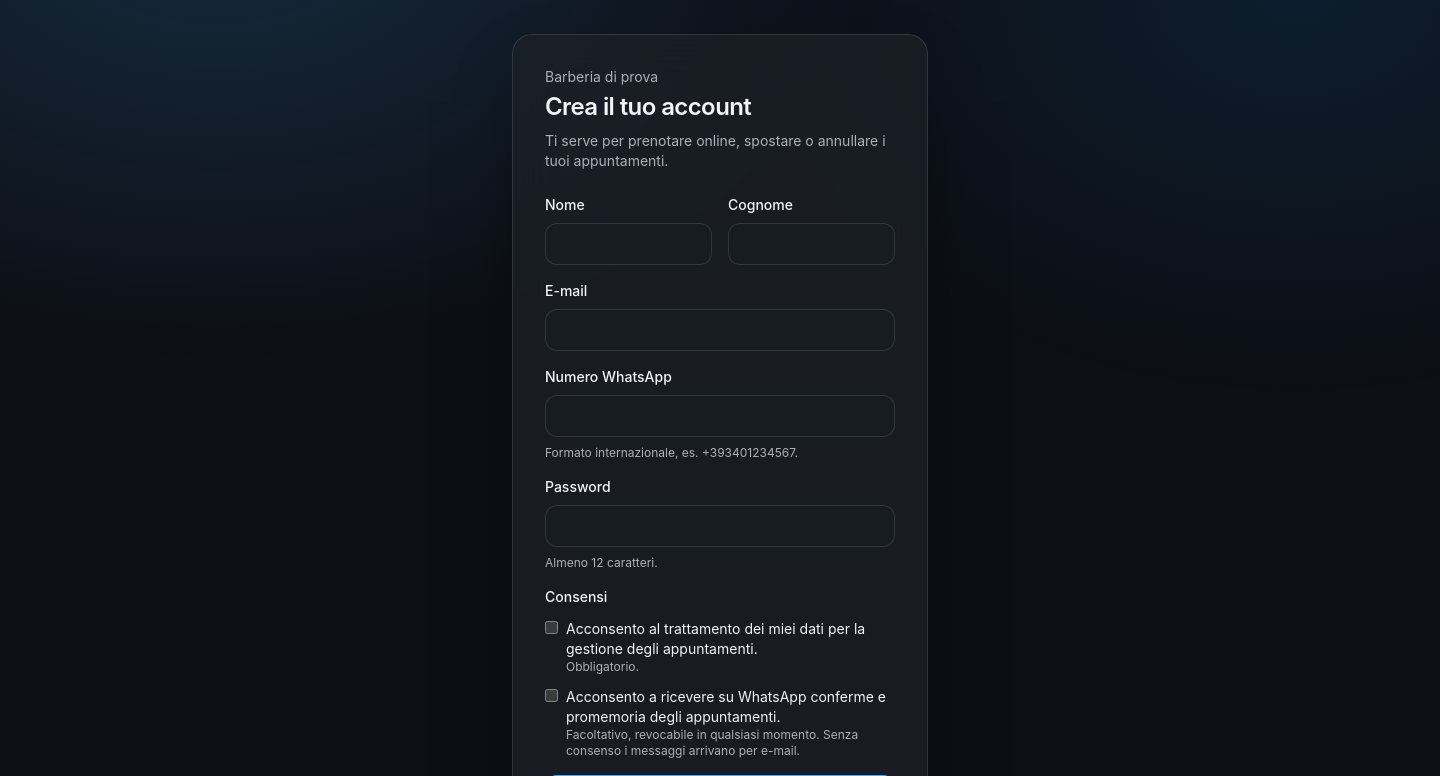
Scenario: PaginaRegistrazione › senza consenso al trattamento non chiama l API
The width and height of the screenshot is (1440, 776).
Step 1. Type "Marta" into the field labelled "Nome" → x=628, y=244, box [545, 223, 712, 265]
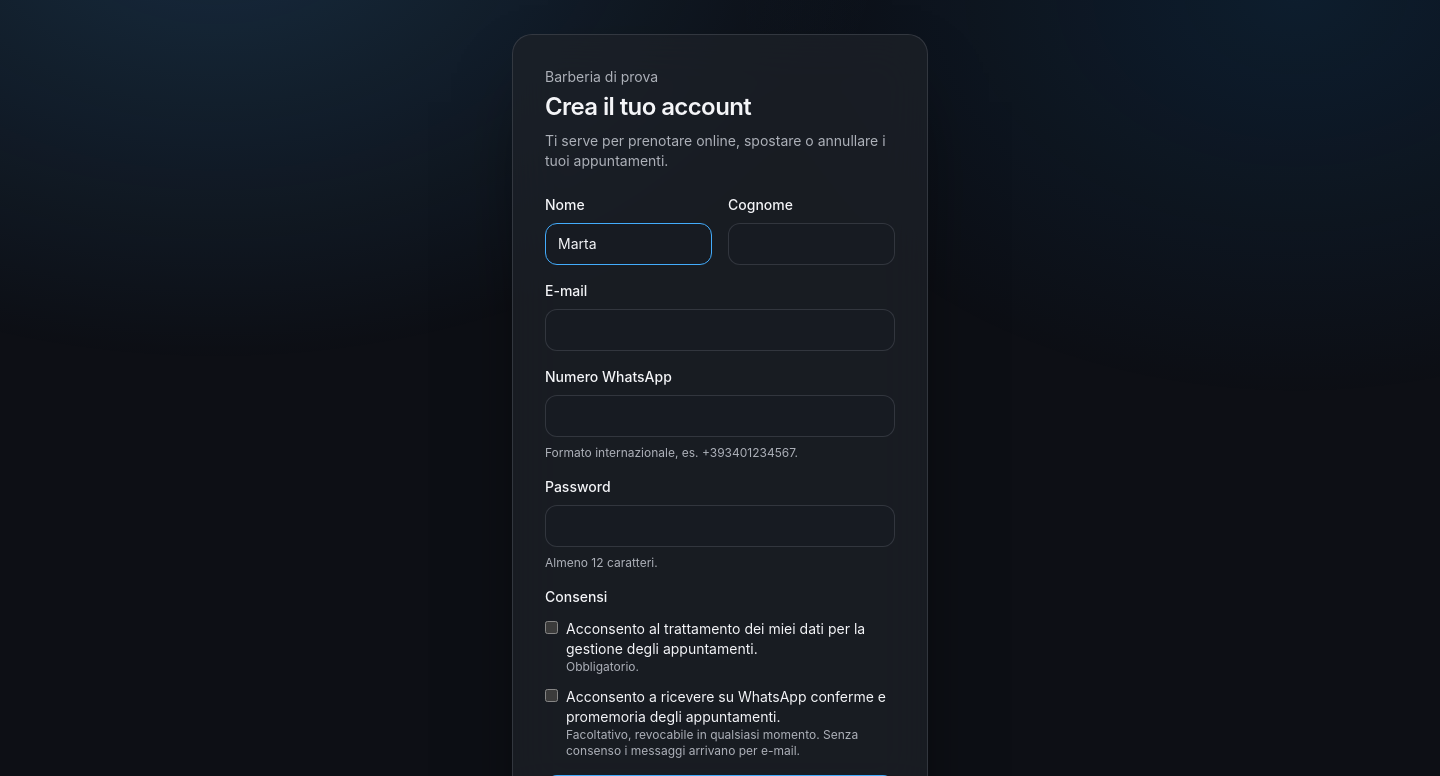
Step 2. Type "Esposito" into the field labelled "Cognome" → x=812, y=244, box [728, 223, 895, 265]
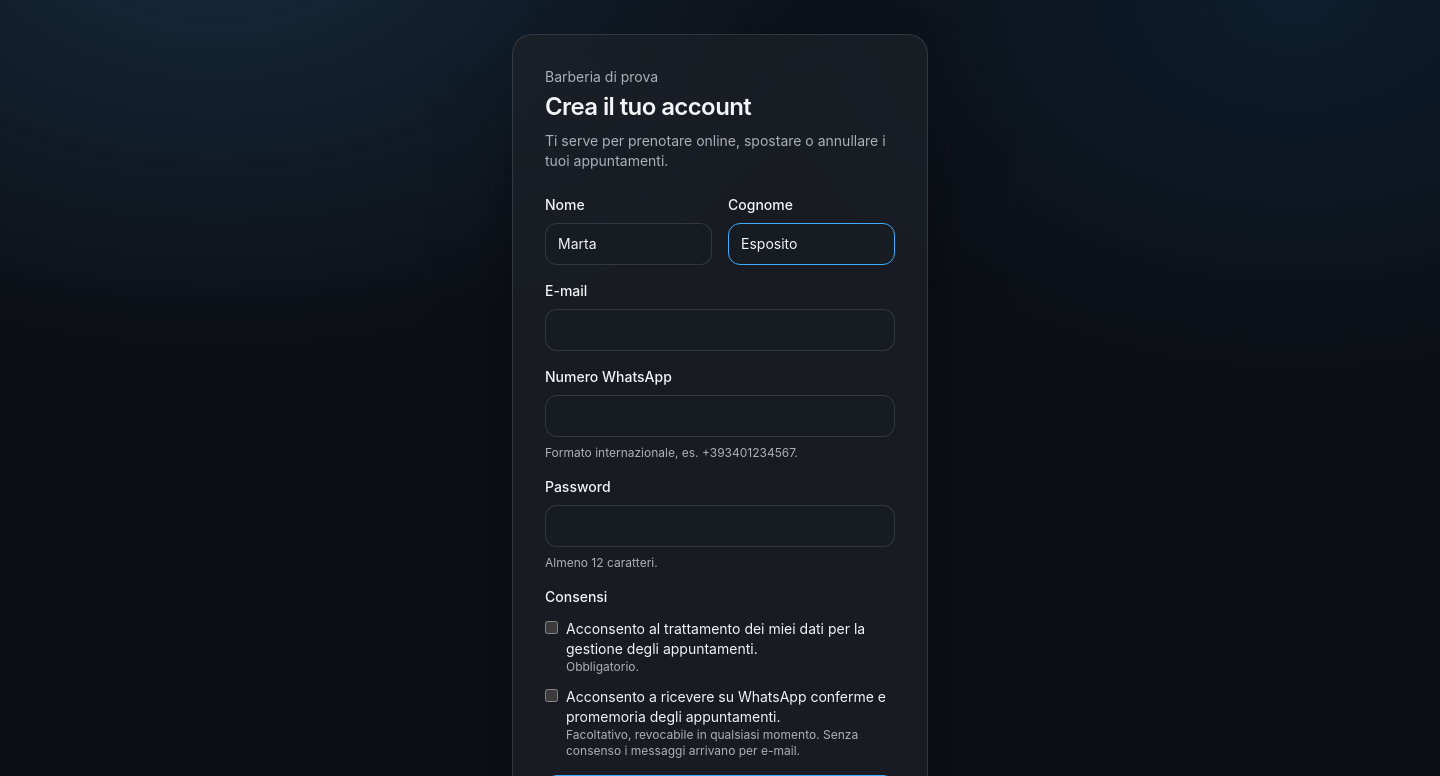
Step 3. Type "marta@cliente.test" into the field labelled "E-mail" → x=720, y=330, box [545, 309, 895, 351]
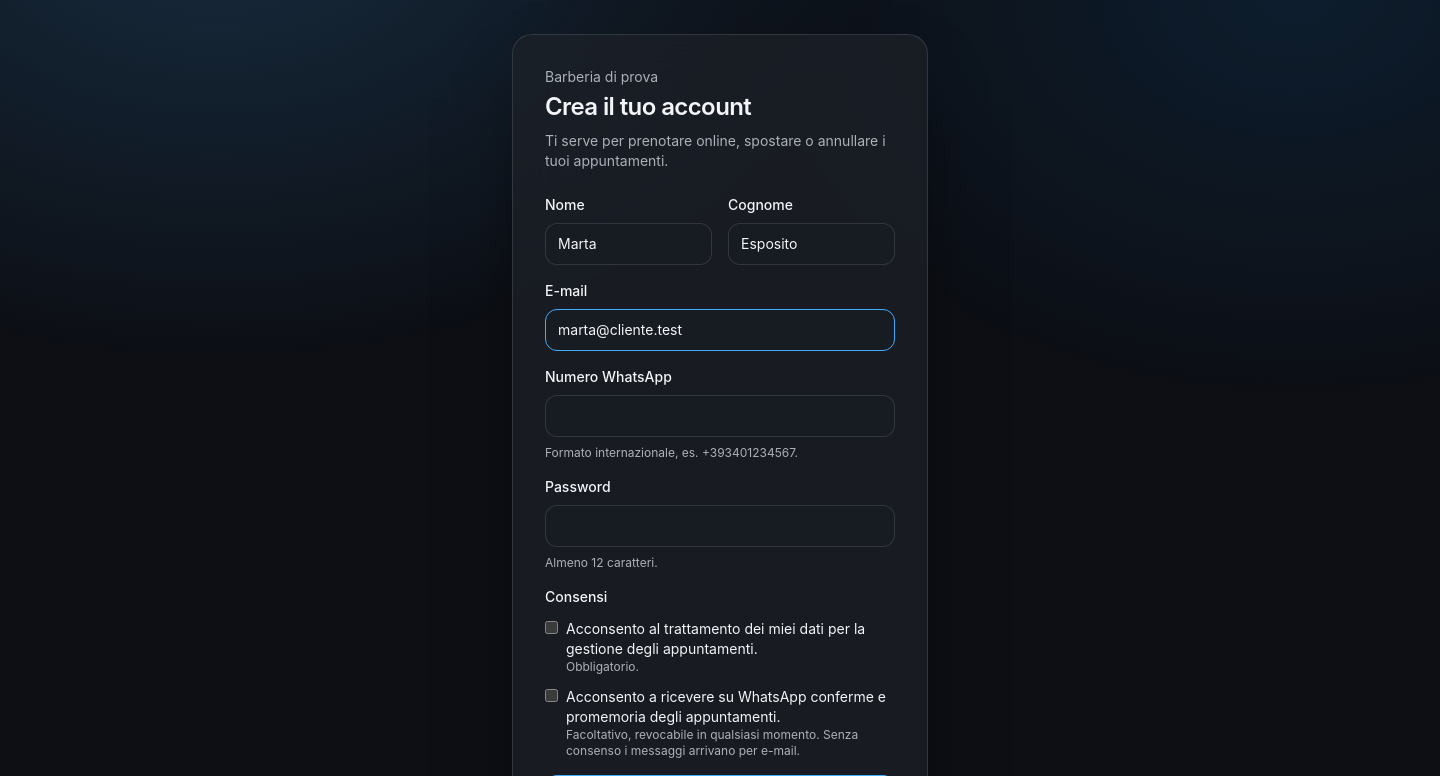
Step 4. Type "+393401234567" into the field labelled "Numero WhatsApp" → x=720, y=416, box [545, 395, 895, 437]
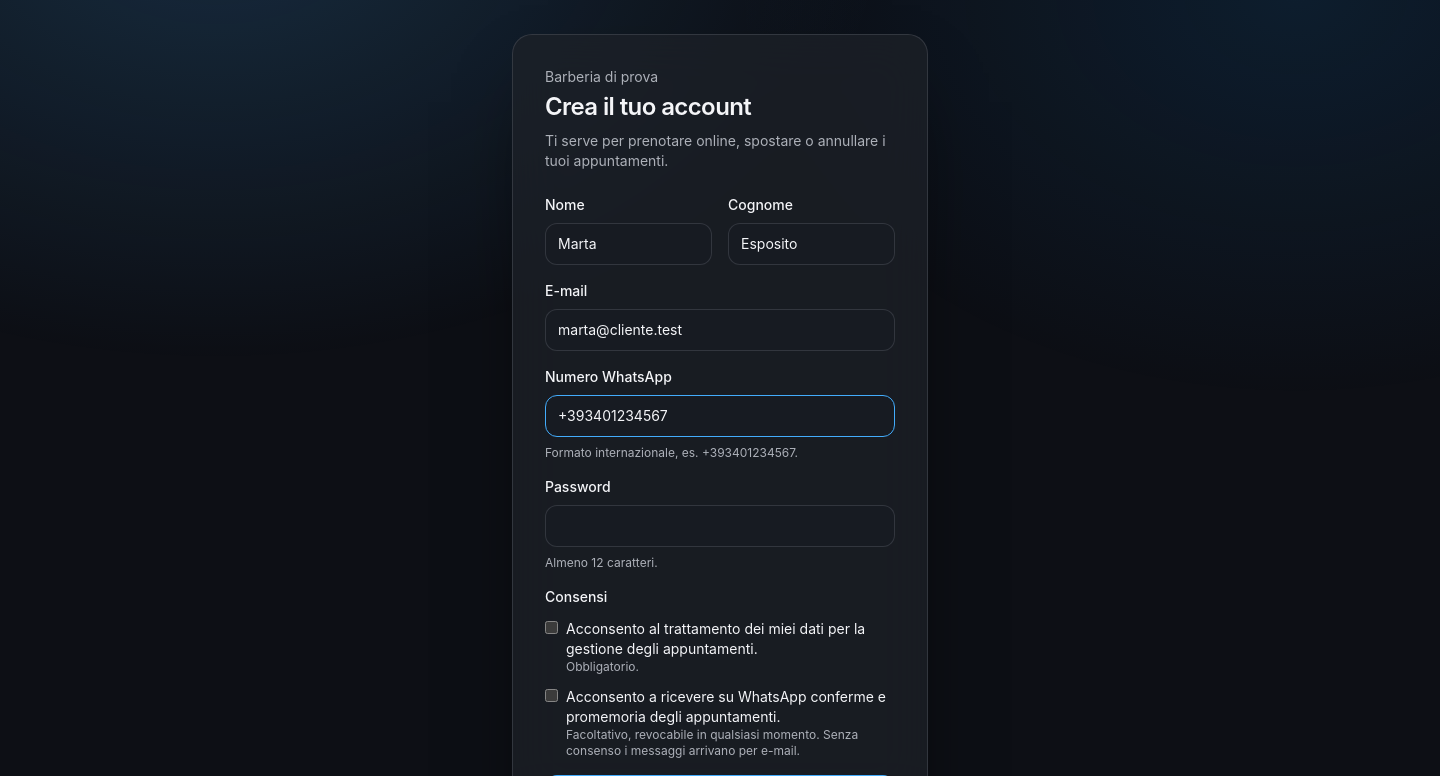
Step 5. Type "password-di-prova-1" into the password field labelled "Password" → x=720, y=526, box [545, 505, 895, 547]
(page scrolled)
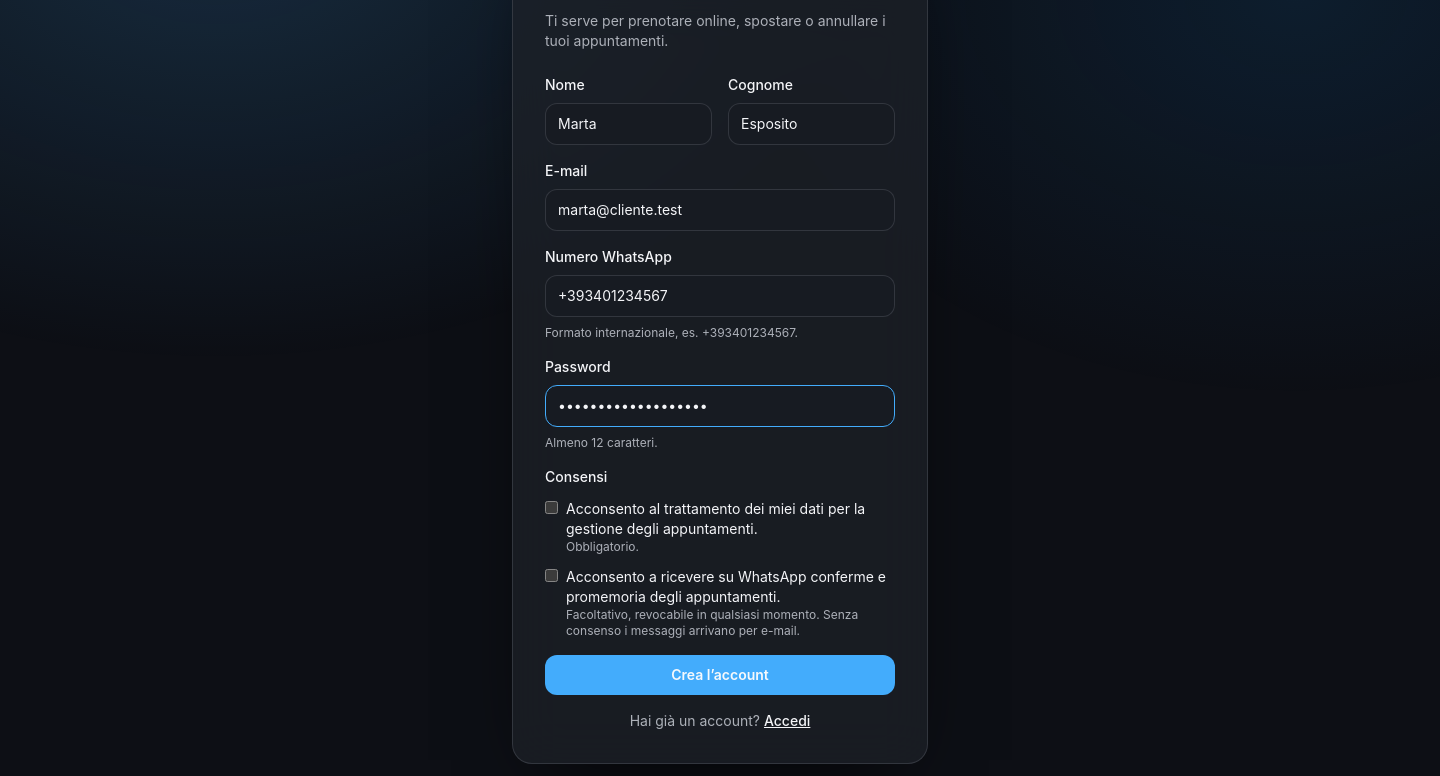
Step 6. Click the button "Crea l’account" → x=720, y=675, box [545, 655, 895, 695]
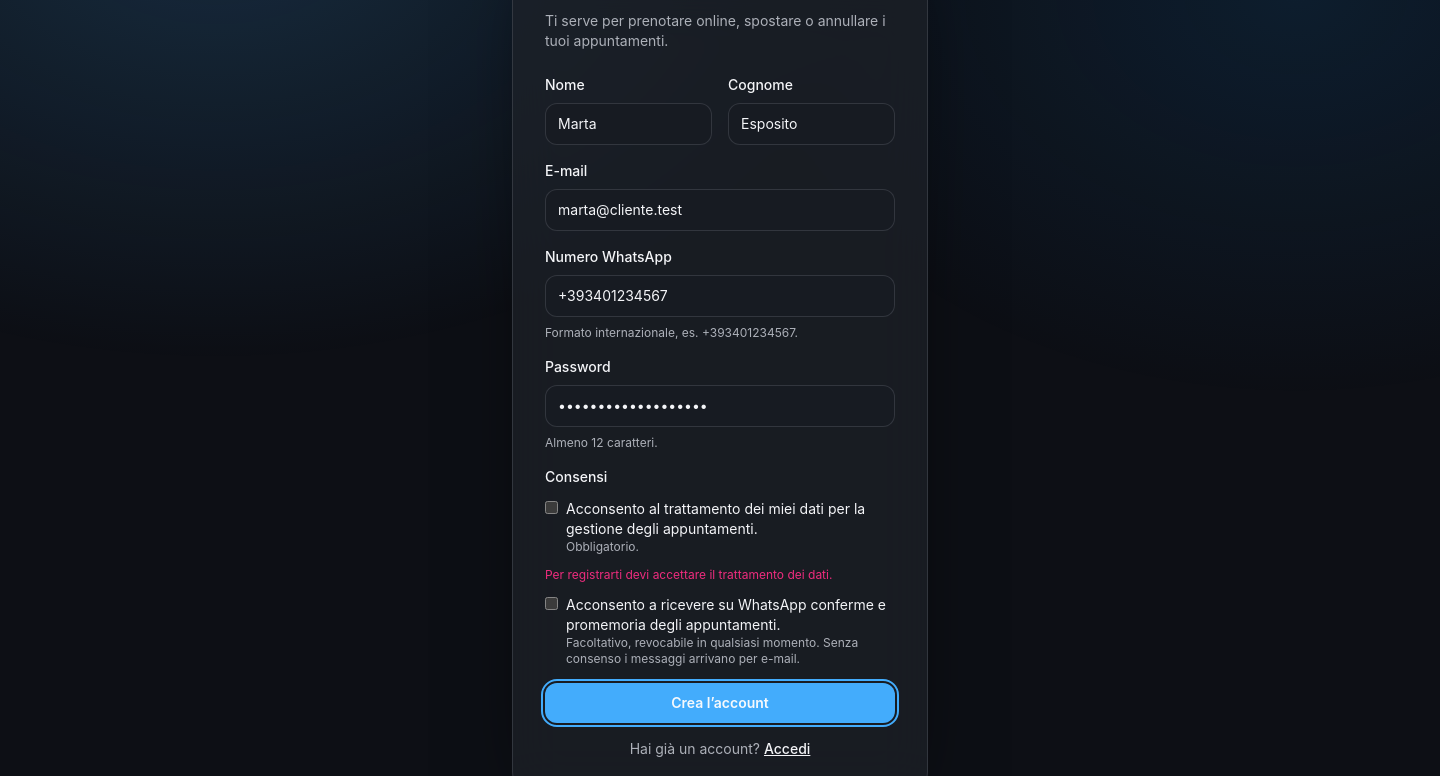
Now the text "Per registrarti devi accettare il trattamento dei dati." is shown, box [545, 567, 832, 582]
